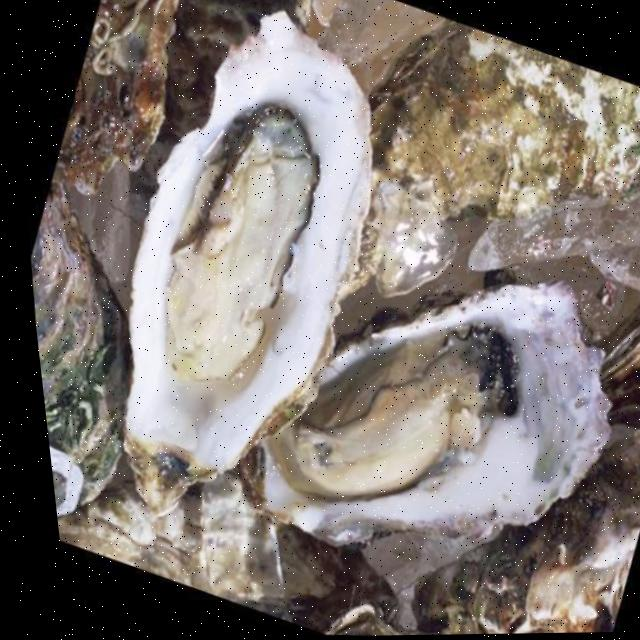Oyster-Indeterminate: (324, 15, 640, 291)
Oyster-Open: (77, 3, 420, 525), (213, 267, 627, 556)
